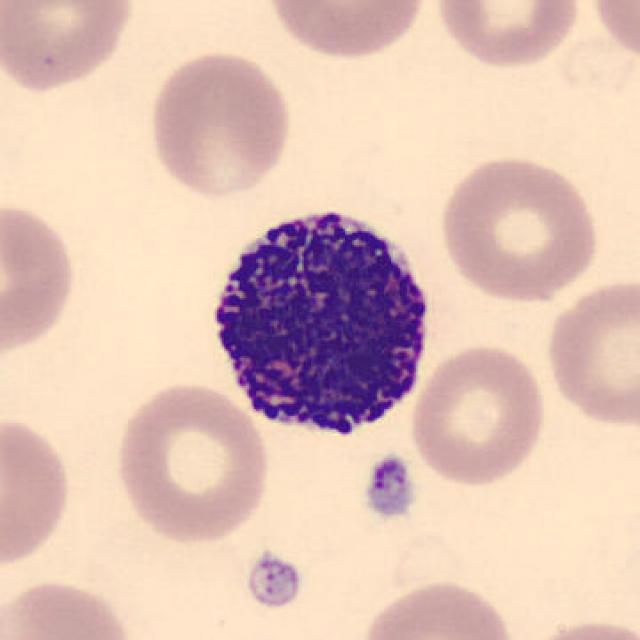Basophil: (197, 193, 441, 452)
Platelets: (361, 453, 418, 522), (244, 550, 304, 610)
RBC: (110, 377, 274, 547), (434, 150, 604, 305), (144, 46, 295, 201), (407, 338, 549, 488), (540, 273, 638, 432), (0, 196, 82, 363), (0, 0, 139, 97), (0, 409, 76, 574), (430, 0, 586, 72), (354, 575, 521, 640), (259, 0, 430, 63), (2, 575, 140, 640), (585, 0, 638, 71), (516, 615, 638, 640)
